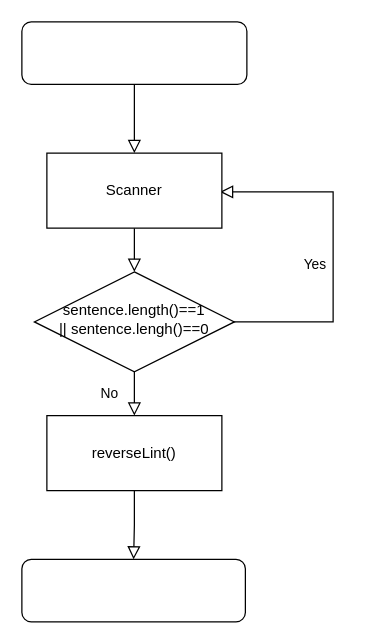
Image size: 368x644. Some labels were removed from this diagram. The shapes that lost their labels are listed below. From the top down, each one's box as (x1, y1, x2, y2) in pixels, then its label:
(21, 21, 247, 84): String sentence
(21, 558, 245, 622): System.out.println()
